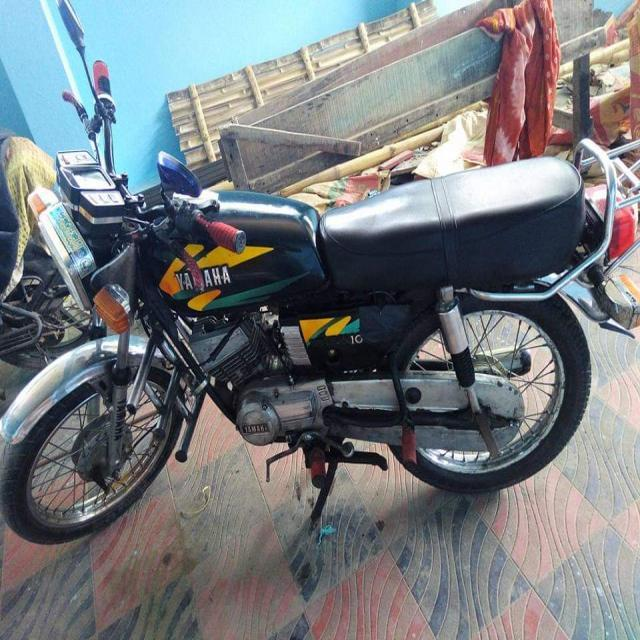Motorbike: (1, 50, 640, 579)
